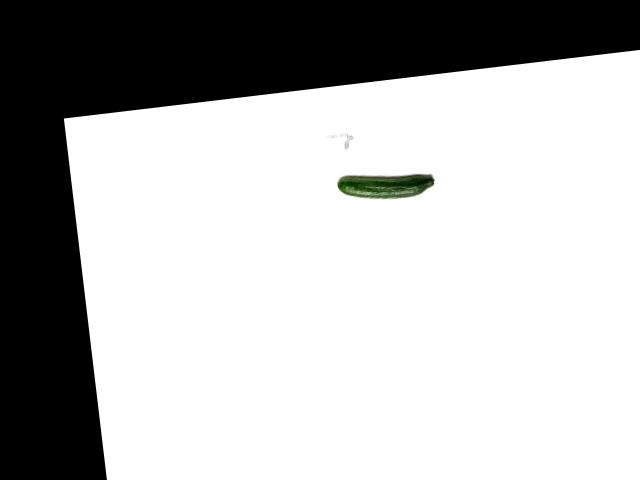cucumber: (335, 166, 435, 204)
